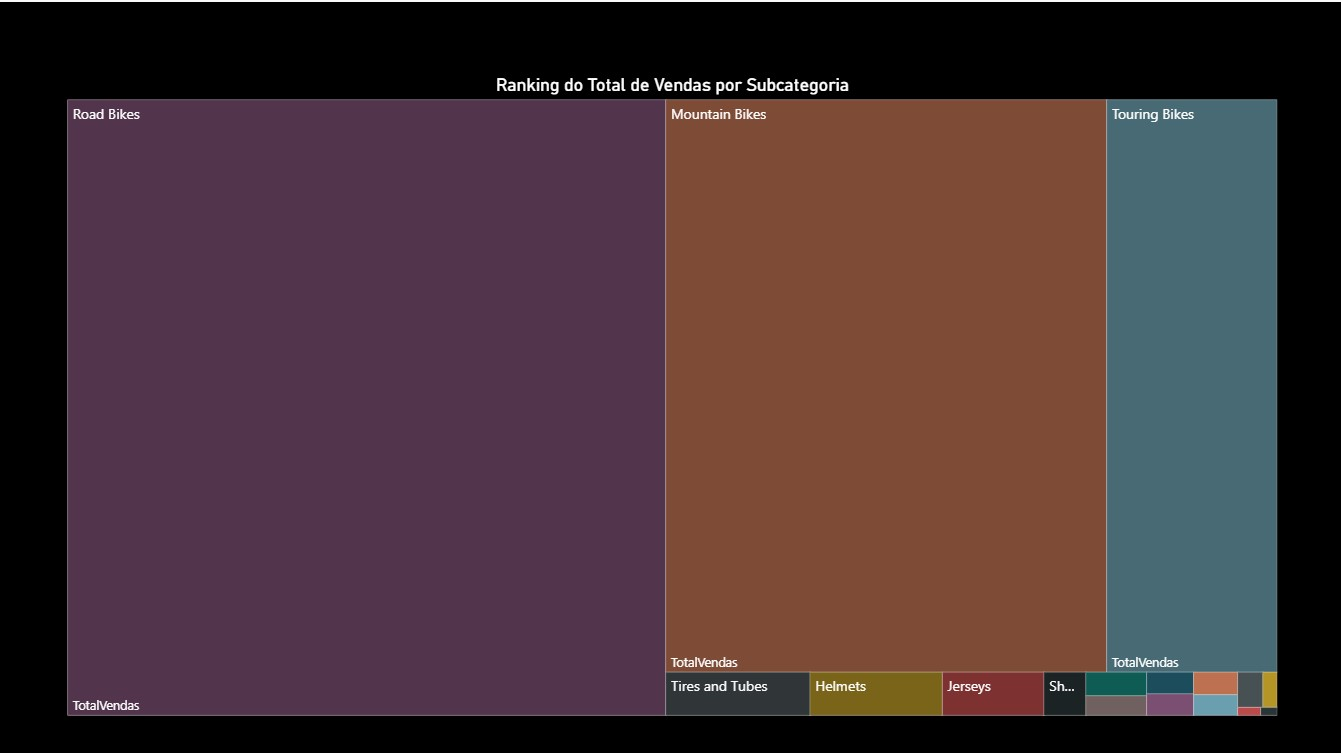

This screenshot's page, from the dashboard's own definition file:
{"tool":"powerbi","page":{"name":"5. Ranking do Total de Vendas por Subcategoria","canvas":[1280,720],"ordinal":5},"visuals":[{"type":"treemap","title":"Ranking do Total de Vendas por Subcategoria","fields":{"Values":["Medidas.RankingSubCategorias","Medidas.TotalVendas"],"Group":["TB_PRODUTO_SUBCATEGORIA.Nome_Subcategoria"]},"box":[59.5,69,1161.9,615.5],"z":1000}]}

Visuals, with their boxes in screenshot pixels (x1, y1, x2, y2), scaled from the page's 1280x720 canvas onto the 1341x753 screenshot:
"Ranking do Total de Vendas por Subcategoria" treemap: pyautogui.locateOnScreen(62, 72, 1280, 716)
